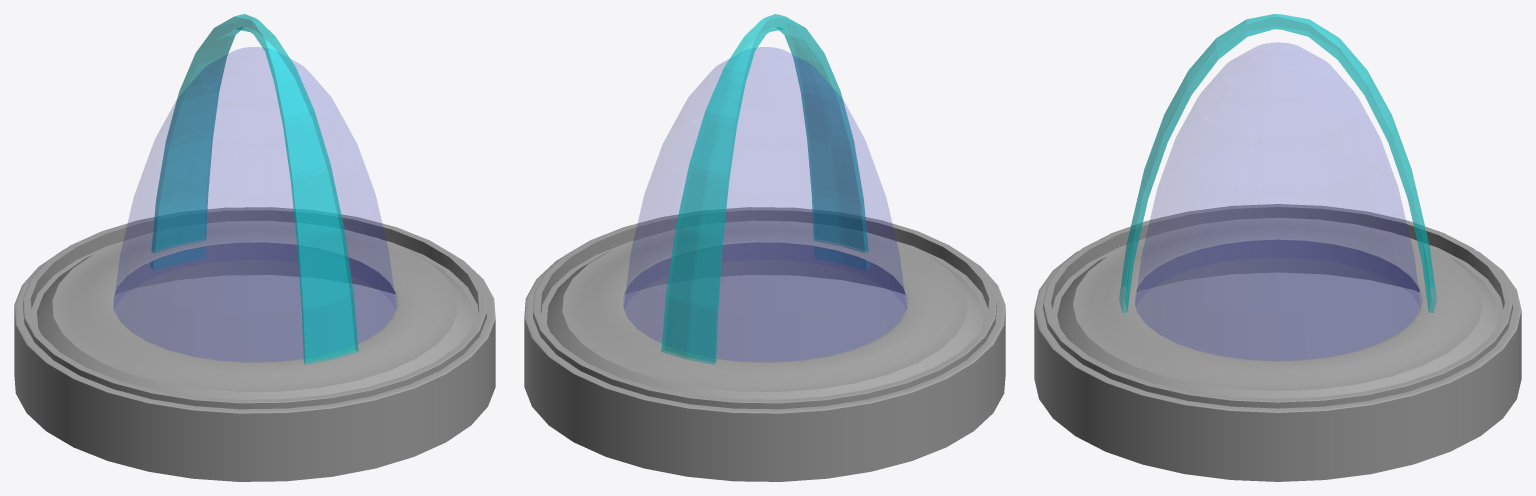
File: Portal_base.glb
The picture shows the model from 3 angles, left to right: view 1: azimuth 30°, elevation 25°; view 2: azimuth 150°, elevation 25°; view 3: azimuth 270°, elevation 25°; orthographic projection.
Parts seen in each view (by area): view 1: Portal; view 2: Portal; view 3: Portal.
Part boxes in pixels (x1,y1,x2,y2): Portal: (14,14,495,481); Portal: (524,14,1005,481); Portal: (1034,14,1521,481).
Bounding box in the file's own units: 2 × 1.65 × 2.
